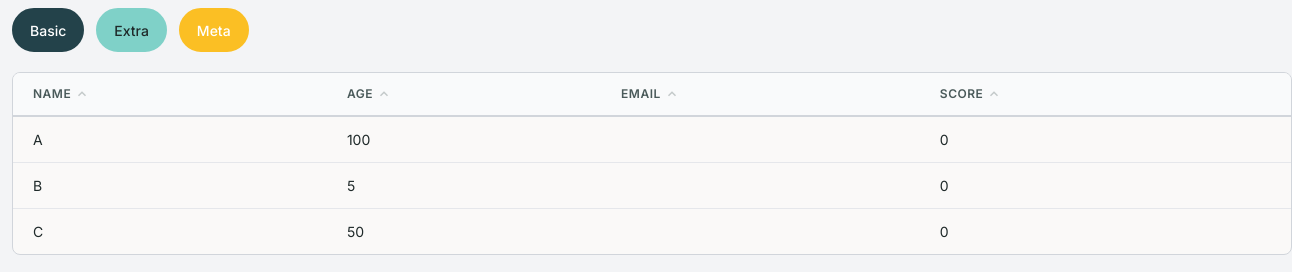
Test: ConfigurableTable › sorting › sorts numerically for number values
This screenshot has width=1292, height=272.
// Click 'Age' header (index 1)
Click the column heading with class "ct-th-sortable" showing "Age": [360, 94] box [327,73,601,116]
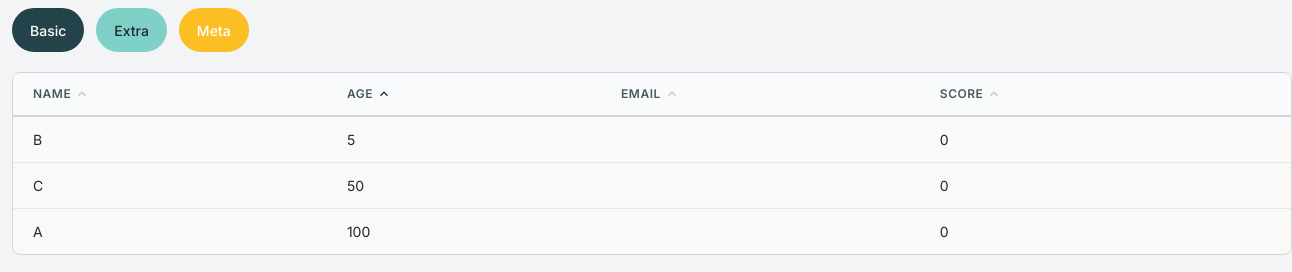
Expected: the cell "5" is shown, [327,116,601,162]
Expected: the cell "50" is shown, [327,162,601,208]
Expected: the cell "100" is shown, [327,208,601,254]
